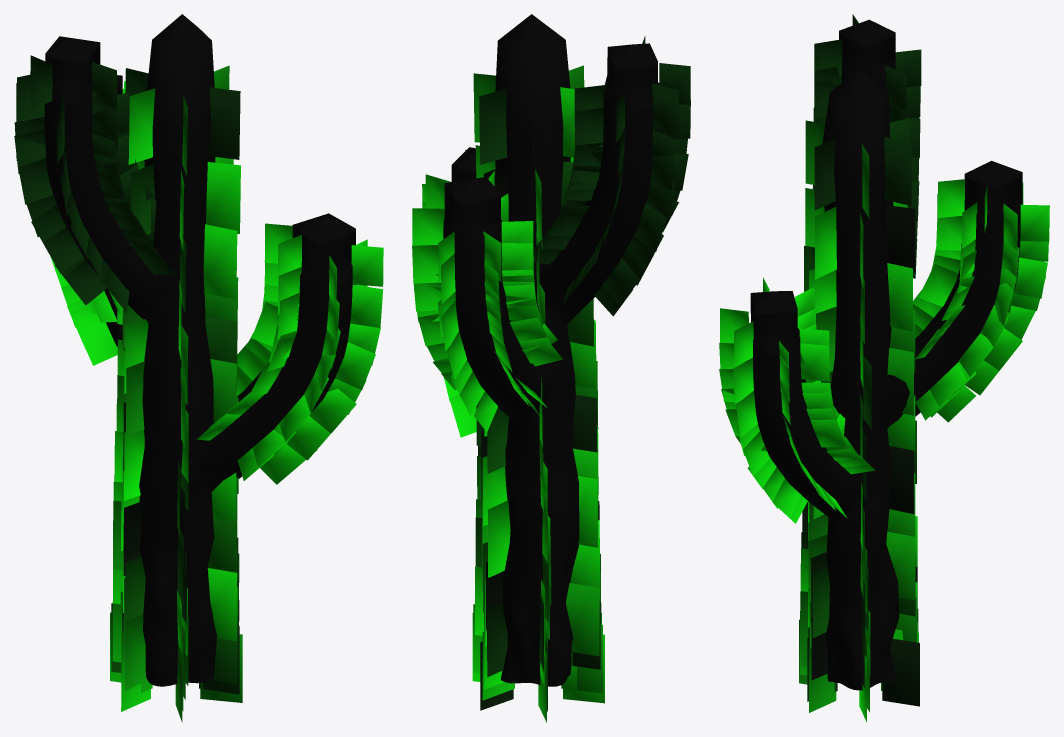
Rendered from Cactus_1_2.fbx.
3 renders of one model, left to right at view 1: azimuth 30°, elevation 25°; view 2: azimuth 150°, elevation 25°; view 3: azimuth 270°, elevation 25°, orthographic. The views are drawn at different scales.
Visible parts, largest first — view 1: Cactus_1_2; view 2: Cactus_1_2; view 3: Cactus_1_2.
Boxes of the visible parts, x1,y1,x2,y2 form: Cactus_1_2: [14, 14, 383, 722]; Cactus_1_2: [412, 14, 690, 722]; Cactus_1_2: [719, 14, 1049, 722].
Bounding box in the file's own units: 162 × 346 × 165.
